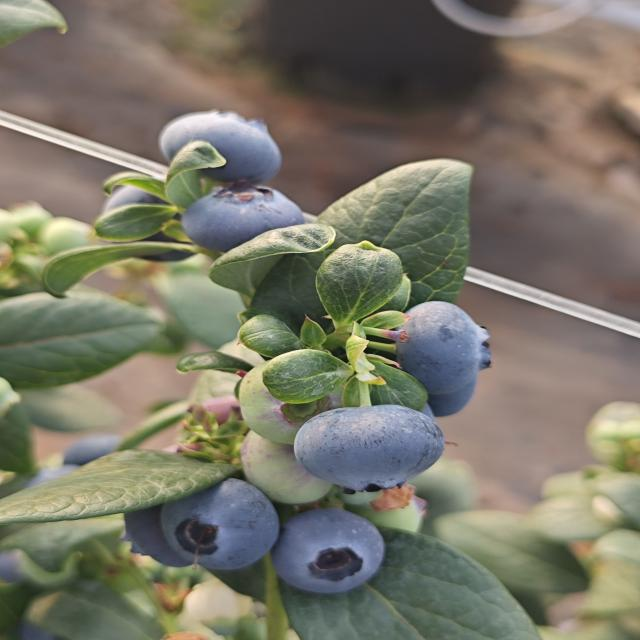ripe: (291, 402, 447, 495), (391, 299, 495, 418), (152, 476, 280, 571), (270, 506, 388, 596), (156, 108, 285, 187), (178, 181, 307, 256), (98, 178, 199, 266), (111, 484, 207, 570), (40, 428, 152, 473)
